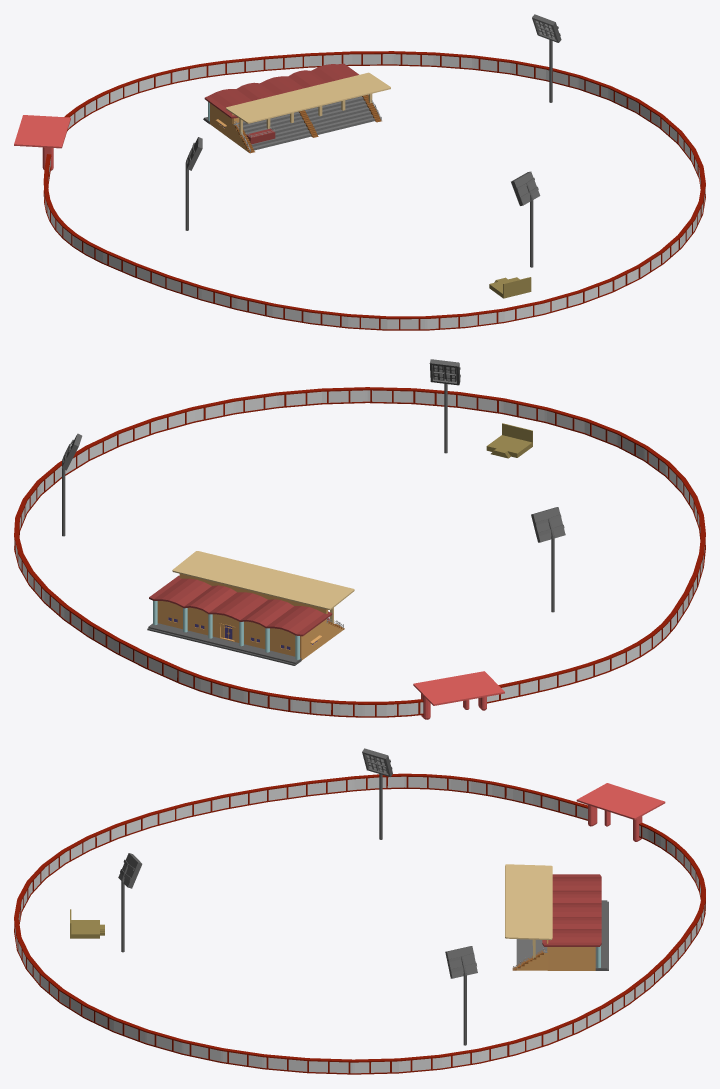
Rendered from DTS.fbx.
The picture shows the model from 3 angles, top to bottom: view 1: azimuth 30°, elevation 25°; view 2: azimuth 150°, elevation 25°; view 3: azimuth 270°, elevation 25°; orthographic projection. The views are drawn at different scales.
Visible parts, largest first — view 1: Cube, Cube.003, stands, roof, Cube.022, light 1.001, light 1, Cube.001, Cube.011, light 1.002, stands stairs; view 2: Cube, roof, Cube.003, Cube.001, Cube.022, Cube.020, light 1.002, Cube.011, light 1.001, columns, light 1; view 3: Cube, roof, Cube.003, Cube.022, Cube.001, light 1, light 1.002, light 1.001, Cube.011, Cube.020, stands.
Part boxes in pixels (<box>): Cube: <box>43,51,705,330</box>; Cube.003: <box>226,72,390,134</box>; stands: <box>233,96,374,150</box>; roof: <box>204,63,358,118</box>; Cube.022: <box>14,115,70,170</box>; light 1.001: <box>511,171,540,267</box>; light 1: <box>532,14,561,102</box>; Cube.001: <box>210,103,247,151</box>; Cube.011: <box>489,277,531,298</box>; light 1.002: <box>185,137,202,230</box>; stands stairs: <box>235,94,381,153</box>; Cube: <box>14,387,705,717</box>; roof: <box>149,575,332,636</box>; Cube.003: <box>172,551,354,623</box>; Cube.001: <box>157,574,342,660</box>; Cube.022: <box>413,671,504,719</box>; Cube.020: <box>147,623,301,665</box>; light 1.002: <box>531,507,565,612</box>; Cube.011: <box>486,423,532,458</box>; light 1.001: <box>429,359,460,453</box>; columns: <box>153,601,299,659</box>; light 1: <box>62,433,82,536</box>; Cube: <box>14,773,705,1074</box>; roof: <box>542,874,601,946</box>; Cube.003: <box>505,864,552,958</box>; Cube.022: <box>576,783,665,841</box>; Cube.001: <box>516,940,595,970</box>; light 1: <box>445,946,477,1045</box>; light 1.002: <box>362,748,392,839</box>; light 1.001: <box>118,853,142,952</box>; Cube.011: <box>70,909,104,938</box>; Cube.020: <box>595,900,608,970</box>; stands: <box>516,939,547,968</box>.
Bounding box in the file's own units: 19472 × 3080 × 19782.
